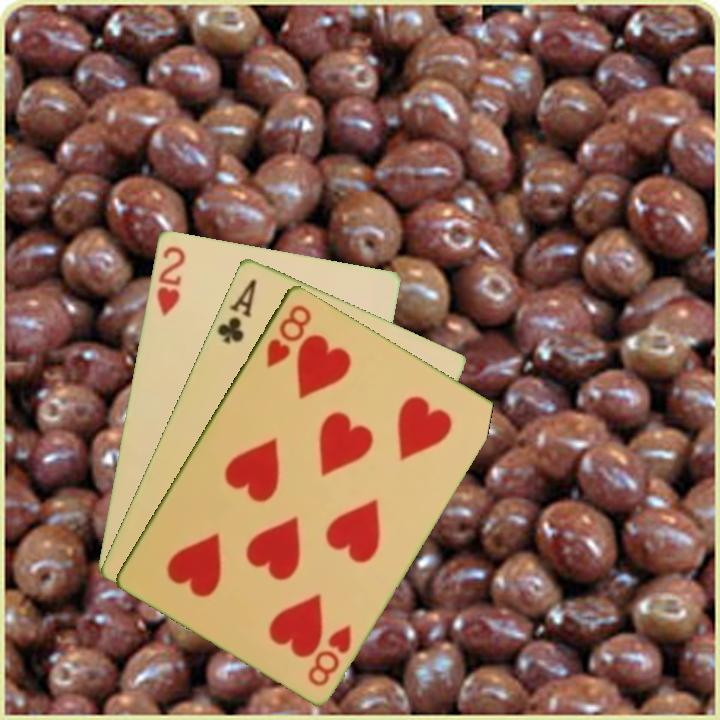2h: (153, 242, 188, 319)
8h: (262, 300, 315, 370), (304, 620, 355, 689)
Ac: (213, 275, 259, 347)
